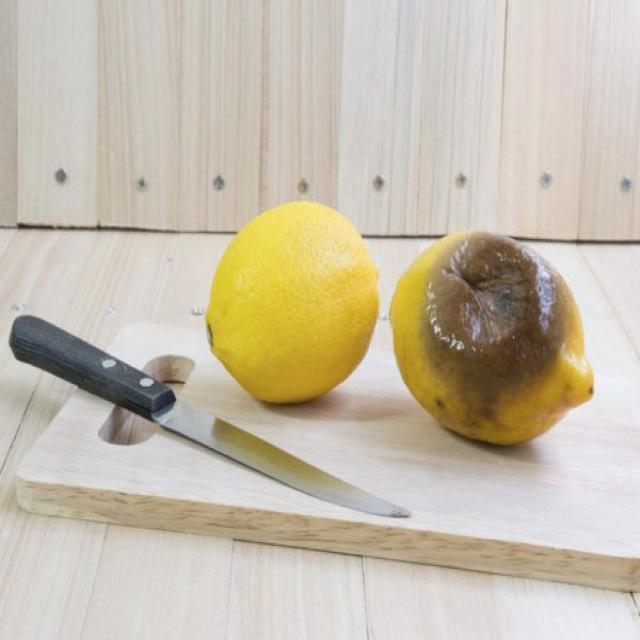Ripe: (202, 203, 384, 405)
Rotten: (385, 228, 596, 449)
